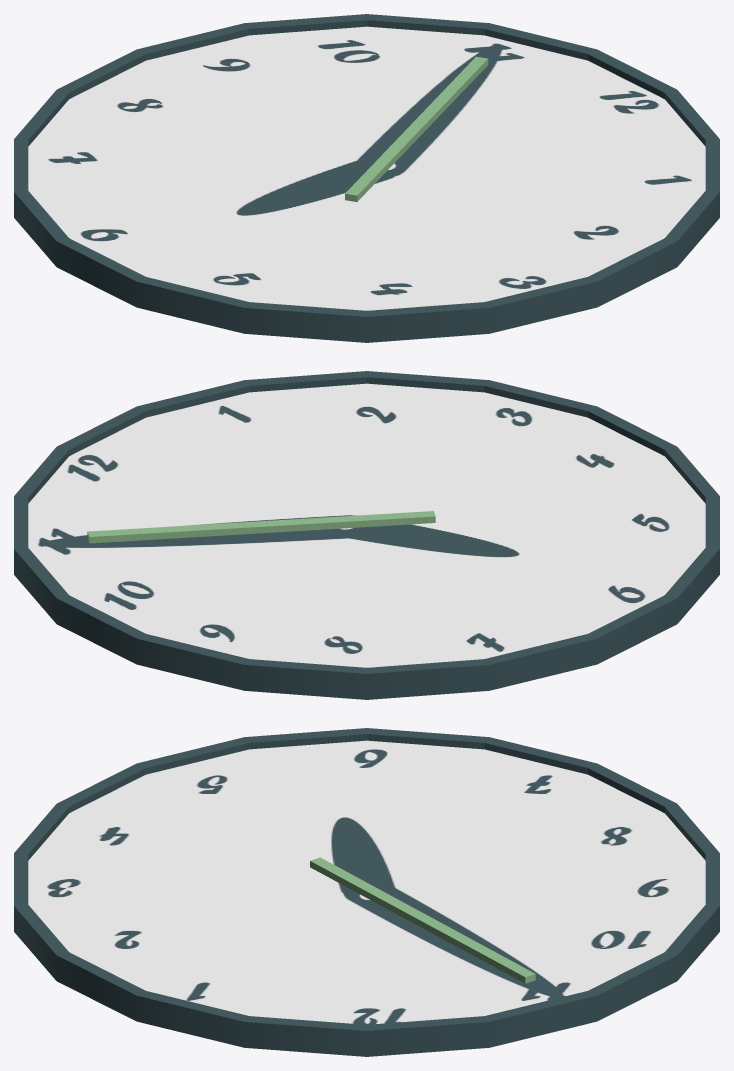
Rendered from Clock.fbx.
The picture shows the model from 3 angles, top to bottom: view 1: azimuth 30°, elevation 25°; view 2: azimuth 150°, elevation 25°; view 3: azimuth 270°, elevation 25°; orthographic projection.
Parts seen in each view (by area): view 1: Clock, Box001; view 2: Clock, Box001; view 3: Clock, Box001.
Part boxes in pixels (left/top/right/bottom): Clock: left=14, top=14, right=719, bottom=342; Box001: left=345, top=56, right=488, bottom=201; Clock: left=14, top=371, right=719, bottom=699; Box001: left=87, top=511, right=435, bottom=543; Clock: left=14, top=728, right=719, bottom=1056; Box001: left=310, top=857, right=535, bottom=983.
Size of the model in its own units: 50 by 2 by 49.24.
Materials: 1 (1 with a texture image).
